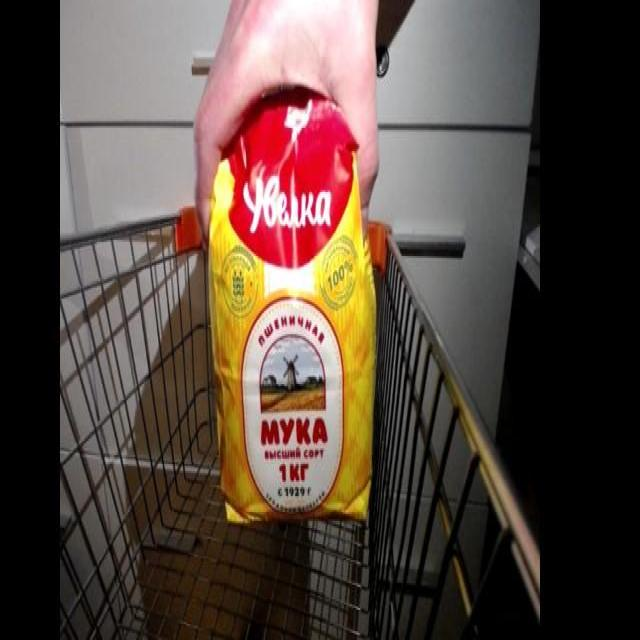Flour: (206, 90, 379, 530)
